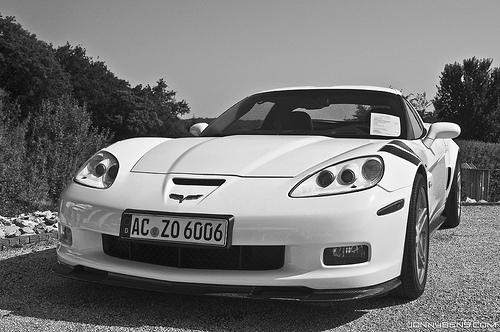car: (57, 86, 465, 310)
